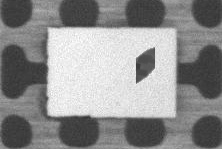DIE_INK: (203, 25, 222, 58)
